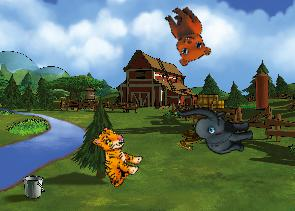bear: (151, 0, 218, 71)
elephant: (176, 93, 256, 163)
tiger: (79, 123, 149, 191)
